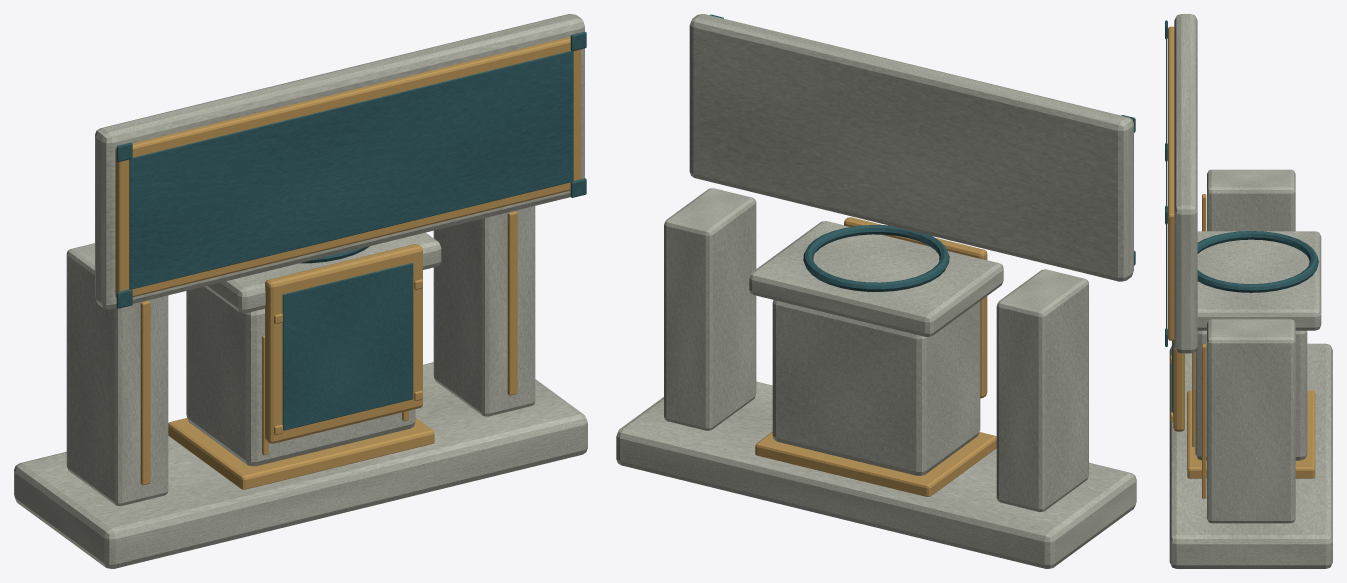
Rendered from balance-onboarding-v01.glb.
3 views of the same model, side by side, from view 1: azimuth 30°, elevation 25°; view 2: azimuth 150°, elevation 25°; view 3: azimuth 270°, elevation 25° (orthographic). The views are drawn at different scales.
Parts seen in each view (by area): view 1: StatusStand stone, StatusStand teal, ChoicePedestal stone, ChoicePedestal teal, StatusStand brass, ChoicePedestal brass; view 2: StatusStand stone, ChoicePedestal stone, ChoicePedestal brass, ChoiceIndicator; view 3: StatusStand stone, ChoicePedestal stone, StatusStand brass, ChoicePedestal brass, ChoiceIndicator, StatusStand teal.
Part boxes in pixels (x1=…): StatusStand stone: x1=14, y1=14, x2=587, y2=568; StatusStand teal: x1=116, y1=31, x2=586, y2=308; ChoicePedestal stone: x1=168, y1=232, x2=446, y2=494; ChoicePedestal teal: x1=282, y1=263, x2=413, y2=430; StatusStand brass: x1=115, y1=36, x2=581, y2=485; ChoicePedestal brass: x1=168, y1=244, x2=434, y2=489; StatusStand stone: x1=616, y1=14, x2=1136, y2=568; ChoicePedestal stone: x1=744, y1=221, x2=1003, y2=475; ChoicePedestal brass: x1=755, y1=217, x2=996, y2=496; ChoiceIndicator: x1=803, y1=225, x2=949, y2=291; StatusStand stone: x1=1169, y1=14, x2=1332, y2=568; ChoicePedestal stone: x1=1185, y1=231, x2=1321, y2=460; StatusStand brass: x1=1168, y1=26, x2=1206, y2=498; ChoicePedestal brass: x1=1170, y1=340, x2=1315, y2=478; ChoiceIndicator: x1=1197, y1=231, x2=1318, y2=292; StatusStand teal: x1=1165, y1=20, x2=1167, y2=346.
Bounding box in the file's own units: 2 × 1.72 × 0.72.
Materials: 3 (2 with a texture image).
